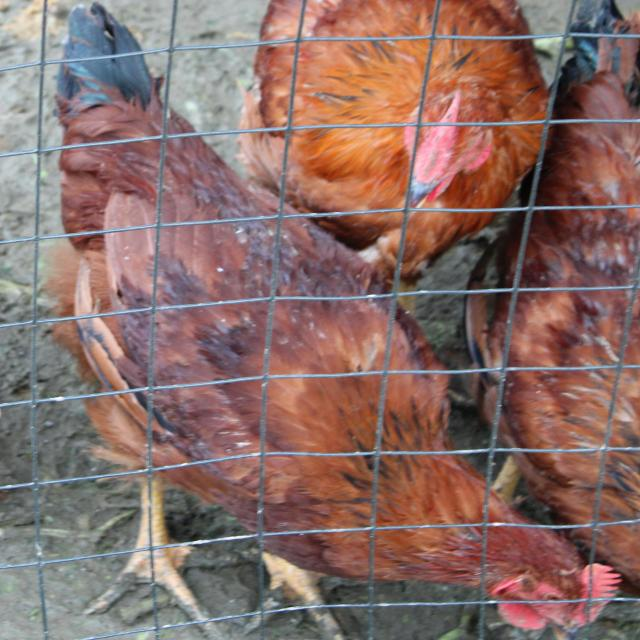cook: (318, 85, 385, 117)
